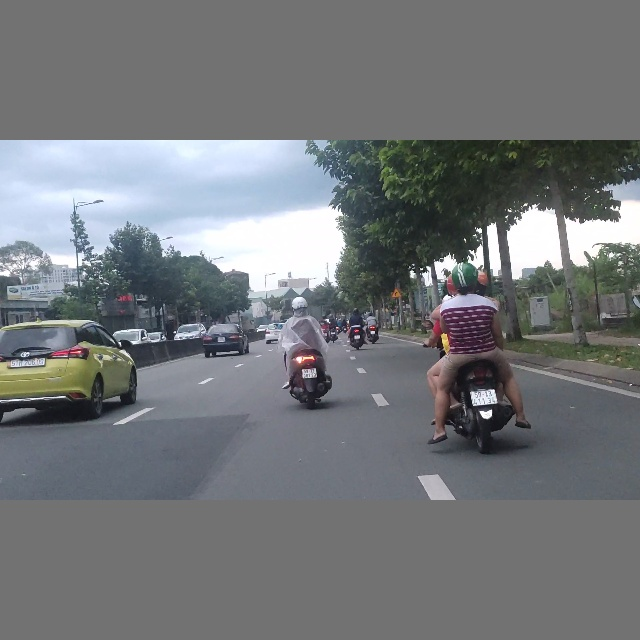W.201b: (391, 288, 402, 298)
